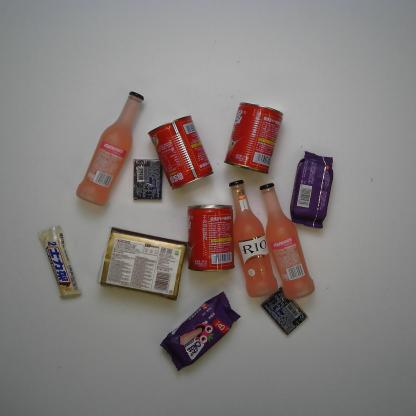Alcohol: (76, 91, 144, 207), (259, 183, 315, 300), (228, 179, 279, 298)
Canned Food: (147, 115, 215, 190), (224, 101, 284, 175), (186, 204, 235, 271)
Chocolate: (38, 225, 82, 299)
Dessert: (160, 291, 242, 372), (290, 151, 334, 229)
Gum: (260, 286, 308, 334), (132, 161, 163, 200)
Tissue: (96, 227, 187, 301)
